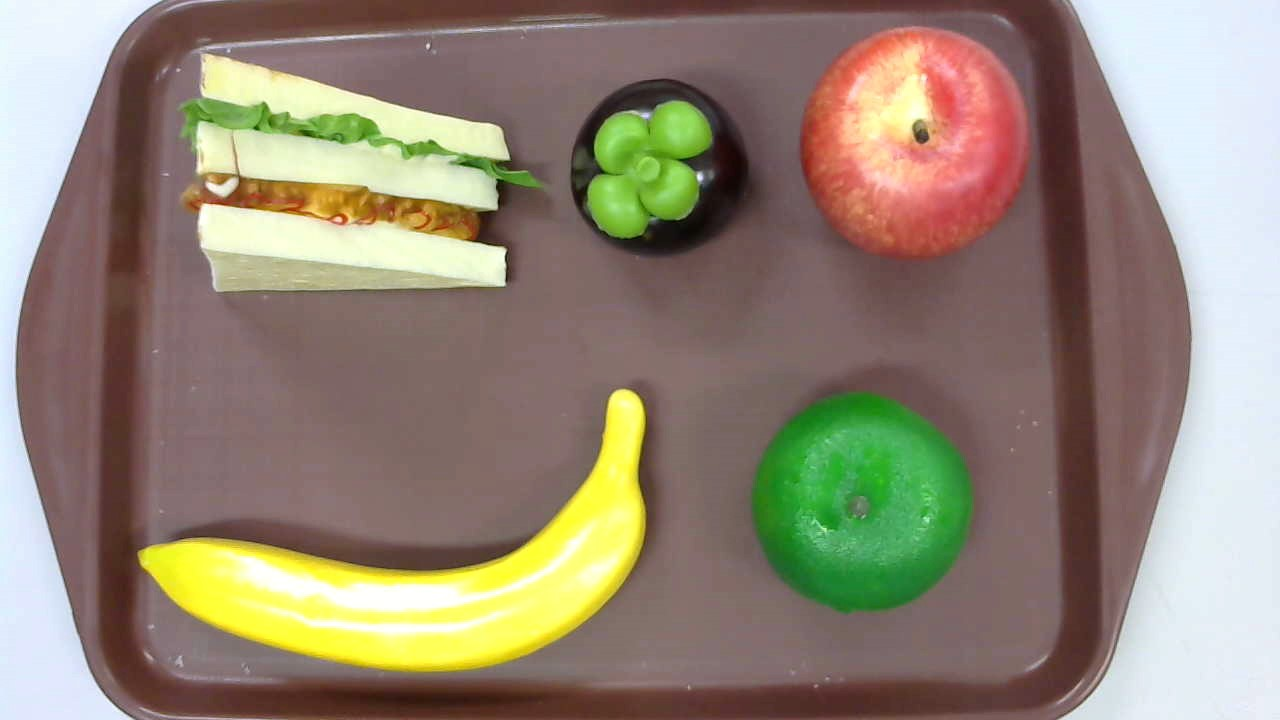banana: (136, 388, 647, 672)
green orange: (750, 392, 972, 613)
mangosteen: (572, 79, 747, 259)
red apple: (800, 24, 1028, 264)
sandwich: (178, 53, 543, 295)
